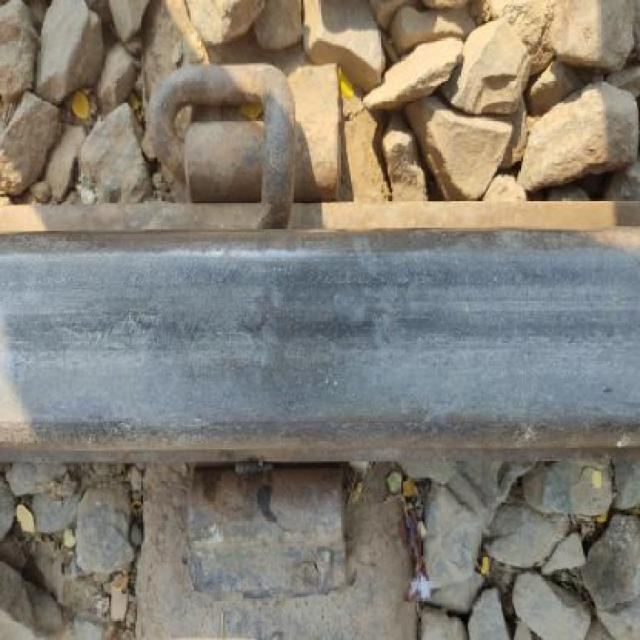non-defective: (0, 163, 640, 508)
